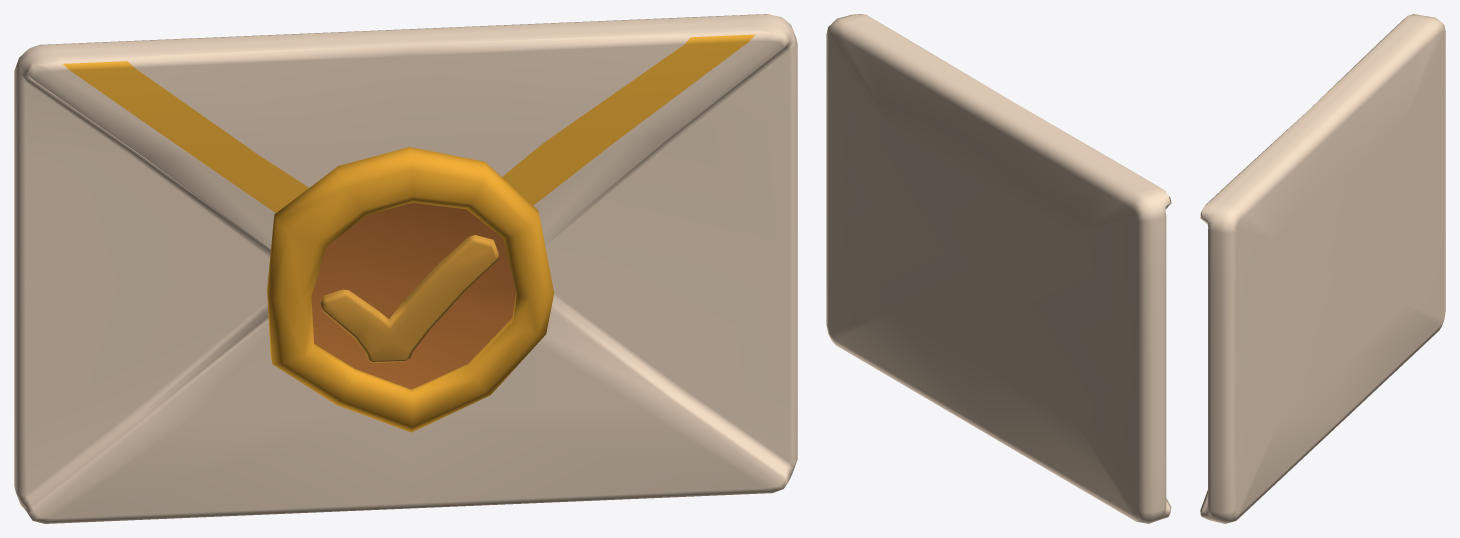
3 renders of one model, left to right at view 1: azimuth 30°, elevation 25°; view 2: azimuth 150°, elevation 25°; view 3: azimuth 270°, elevation 25°, orthographic. The views are drawn at different scales.
Visible parts, largest first — view 1: model_1.077; view 2: model_1.077; view 3: model_1.077.
Part boxes in pixels (x1,y1,x2,y2): model_1.077: (14, 14, 797, 523); model_1.077: (826, 14, 1171, 523); model_1.077: (1200, 14, 1445, 523).
Size of the model in its own units: 4.42 by 3.13 by 2.22.
